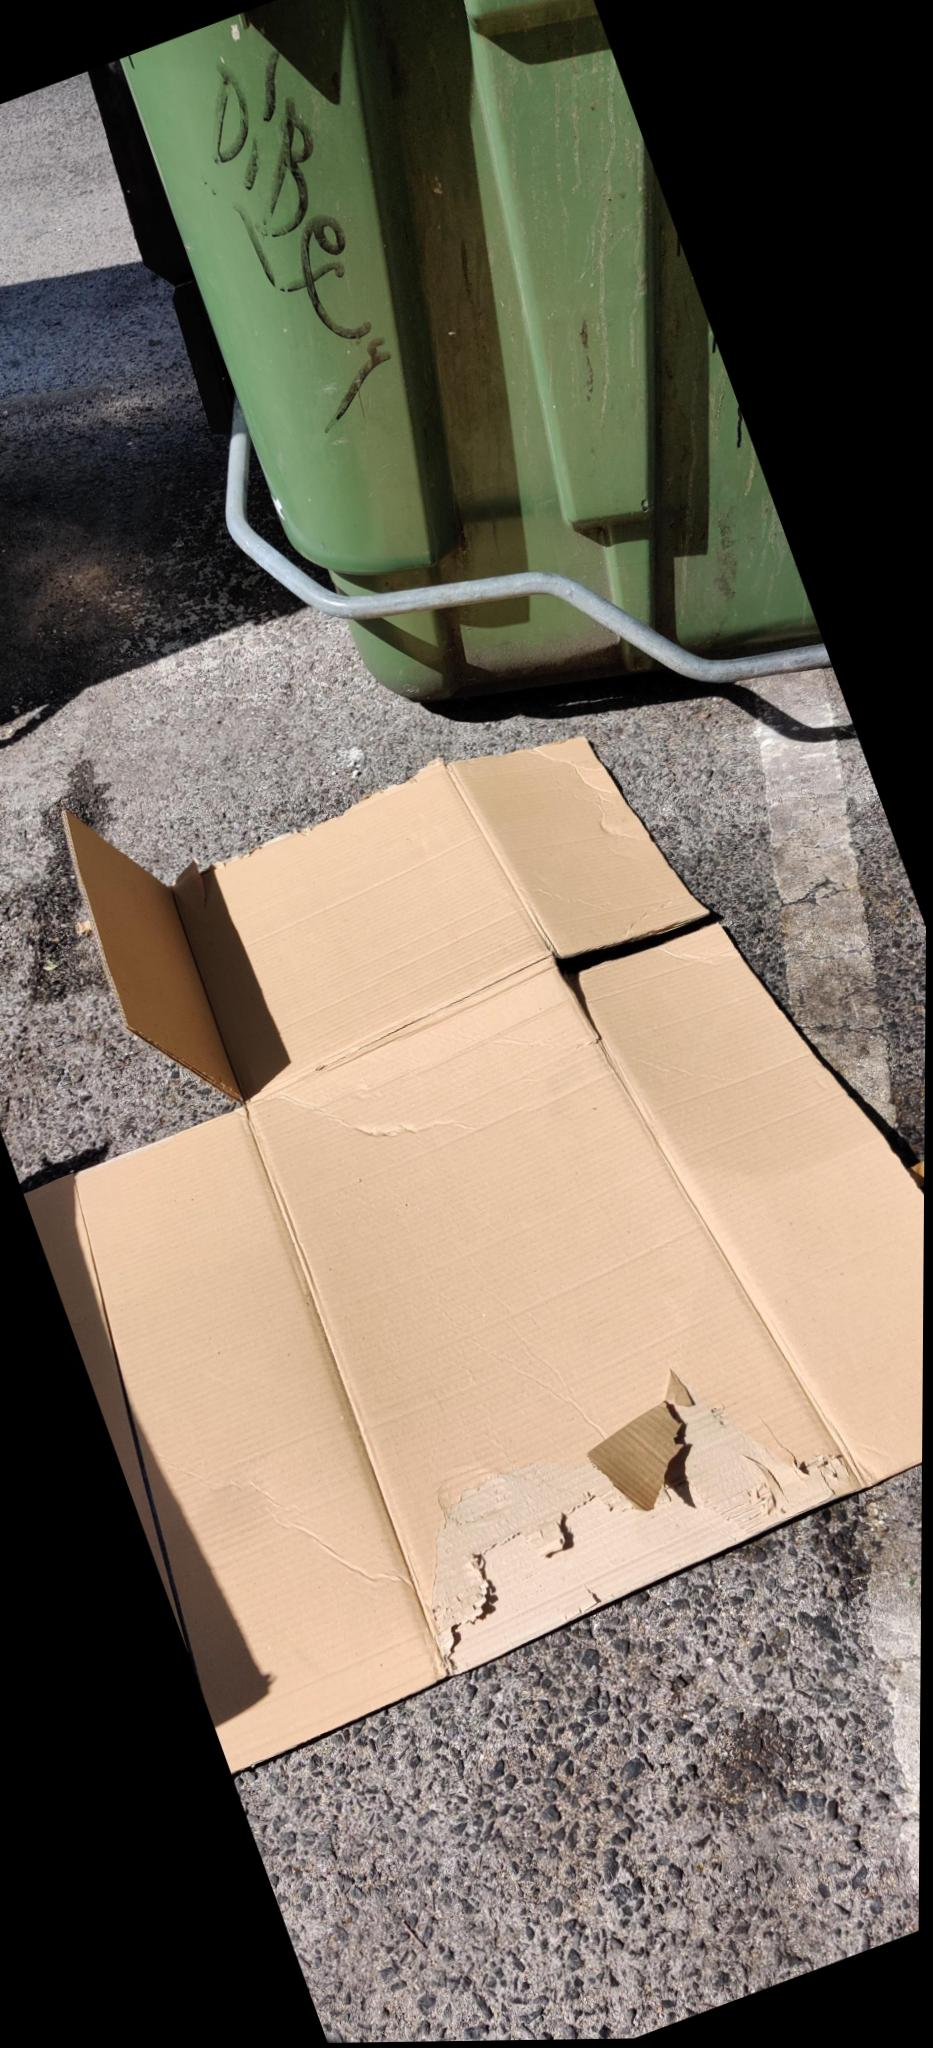cardboard: (0, 550, 929, 1802), (792, 1428, 923, 1927)
